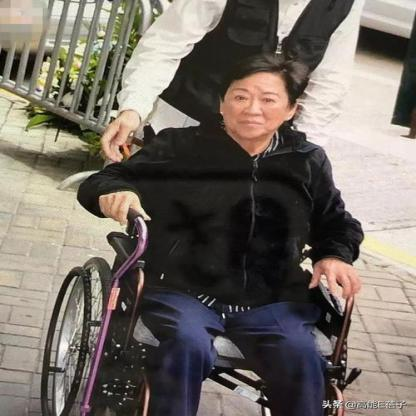wheelchair: (59, 54, 363, 415)
